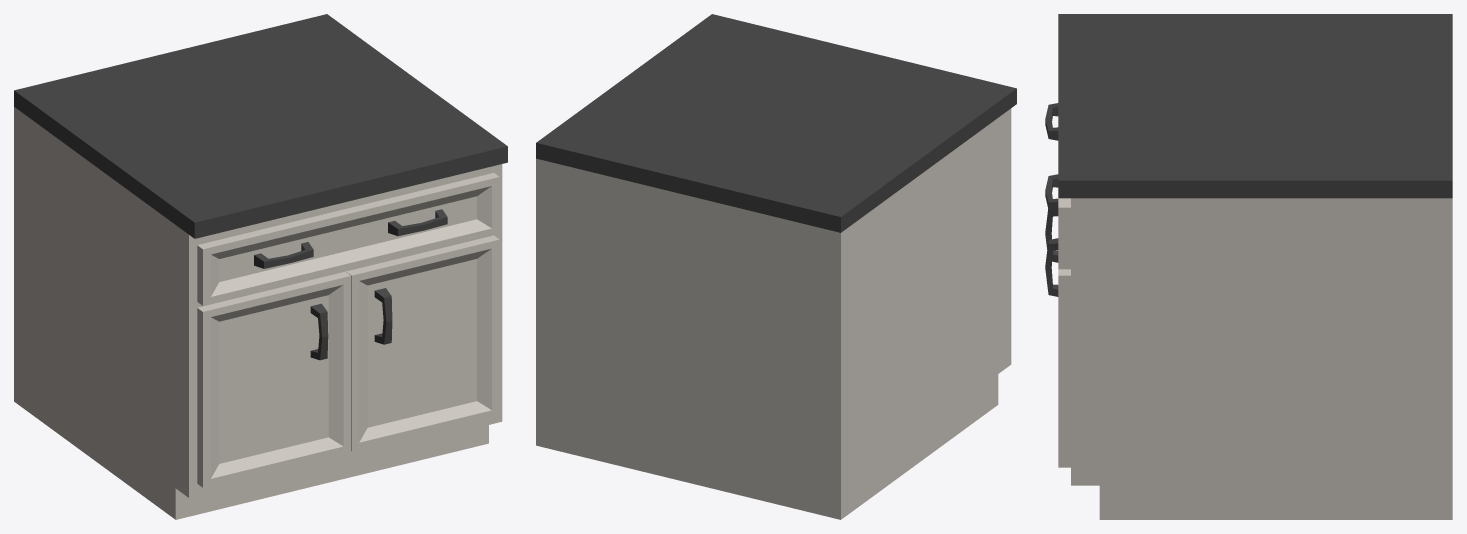
The model's file is SM_Prop_Kitchen_Counter_01.fbx.
The picture shows the model from 3 angles, left to right: view 1: azimuth 30°, elevation 25°; view 2: azimuth 150°, elevation 25°; view 3: azimuth 270°, elevation 25°; orthographic projection. The views are drawn at different scales.
Visible parts, largest first — view 1: SM_Prop_Kitchen_Counter_01; view 2: SM_Prop_Kitchen_Counter_01; view 3: SM_Prop_Kitchen_Counter_01.
Boxes of the visible parts, left/top/right/bottom form: SM_Prop_Kitchen_Counter_01: left=14, top=14, right=507, bottom=519; SM_Prop_Kitchen_Counter_01: left=536, top=14, right=1016, bottom=519; SM_Prop_Kitchen_Counter_01: left=1045, top=14, right=1452, bottom=519.
Size of the model in its own units: 100 by 94.96 by 103.
